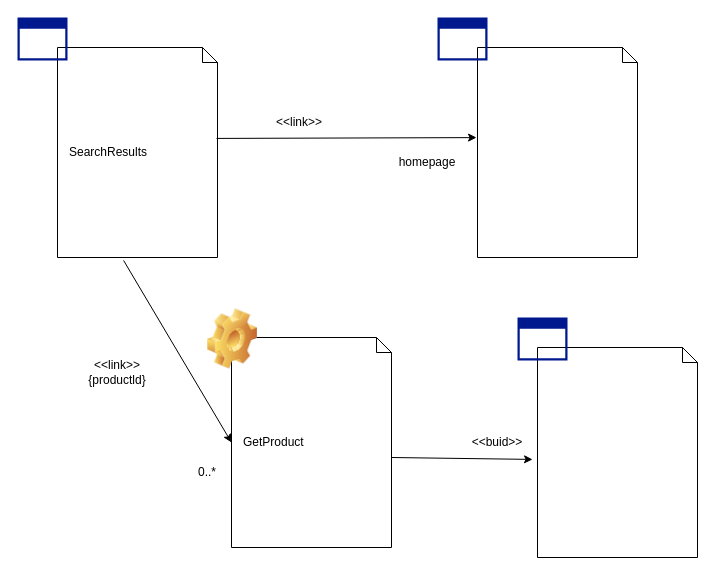
This 715x575 diagram has some shape labels left out. Here are the shapes that lost their labels. From the top down, the centre of each, then its label:
At point (557, 152): "Home".
At point (617, 452): "PoductDetail".
